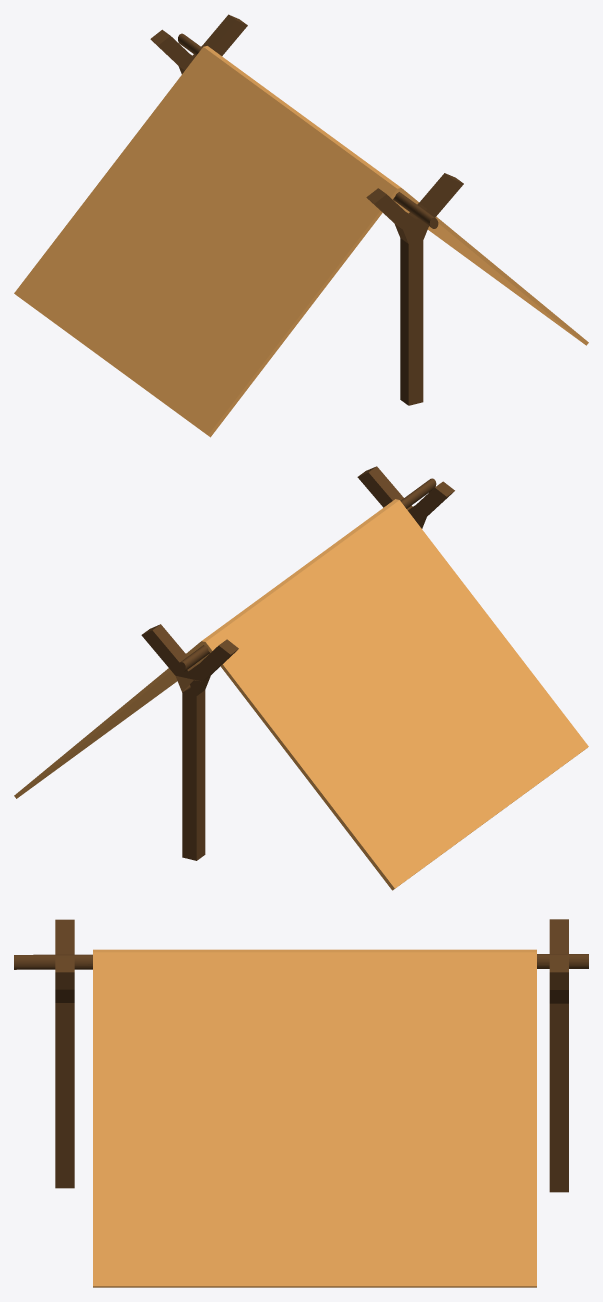
The model's file is camp_modified.fbx.
The picture shows the model from 3 angles, top to bottom: view 1: azimuth 30°, elevation 25°; view 2: azimuth 150°, elevation 25°; view 3: azimuth 270°, elevation 25°; orthographic projection. The views are drawn at different scales.
Parts seen in each view (by area): view 1: Plane, Plane.002, Plane.001, Cylinder; view 2: Plane, Plane.001, Plane.002, Cylinder; view 3: Plane, Plane.001, Plane.002, Cylinder.
Part boxes in pixels (<box>): Plane: <box>14,46,588,437</box>; Plane.002: <box>366,173,463,405</box>; Plane.001: <box>150,14,247,73</box>; Cylinder: <box>178,33,438,228</box>; Plane: <box>14,499,588,890</box>; Plane.001: <box>141,624,238,860</box>; Plane.002: <box>357,466,454,528</box>; Cylinder: <box>177,478,436,673</box>; Plane: <box>93,949,536,1287</box>; Plane.001: <box>549,919,568,1192</box>; Plane.002: <box>55,919,74,1188</box>; Cylinder: <box>14,954,588,969</box>.
Size of the model in its own units: 321 by 178 by 367.
